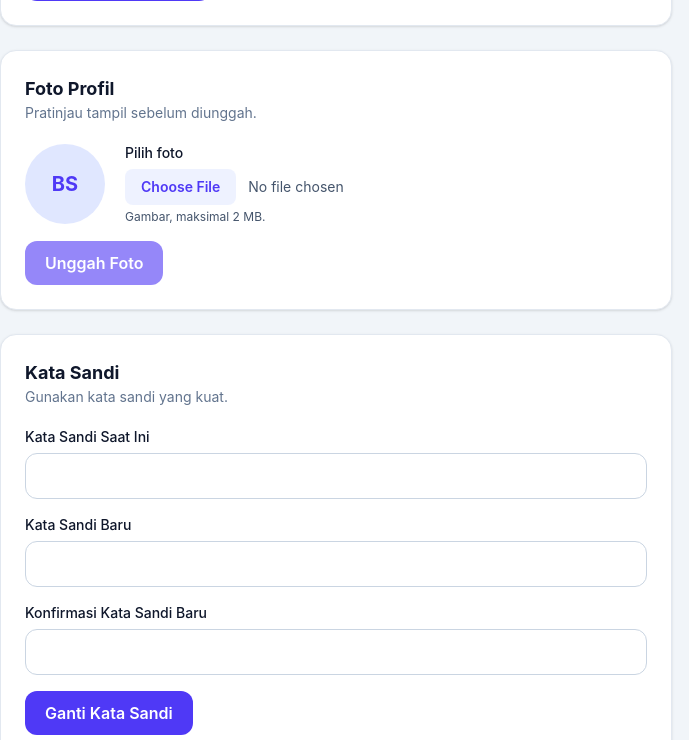
Test: ProfilePage › form kata sandi › menampilkan validasi jika form kosong
(page scrolled)
Click the button "Ganti Kata Sandi".
click(109, 713)  # box [25, 691, 193, 735]
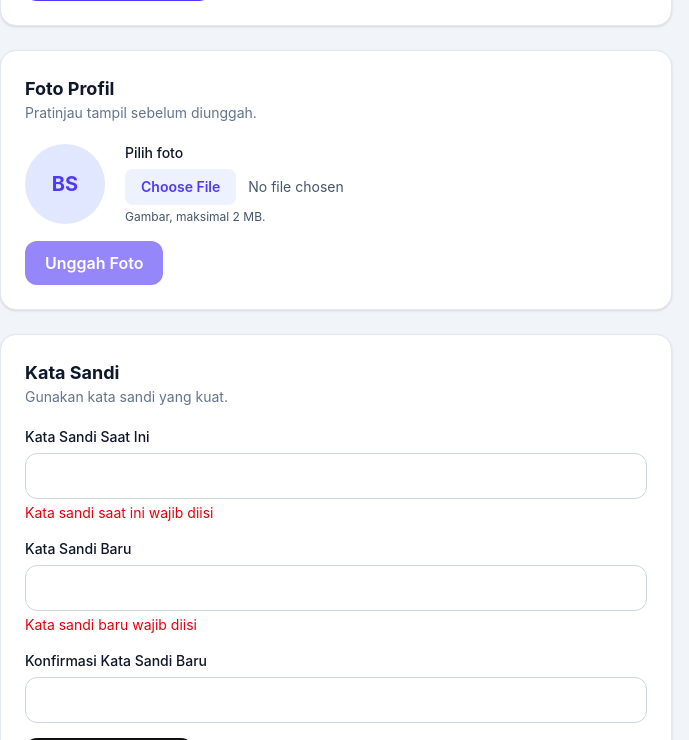
expect the text "Kata sandi saat ini wajib diisi" is shown: met, box [25, 504, 214, 521]
expect the text "Kata sandi baru wajib diisi" is shown: met, box [25, 616, 197, 633]
